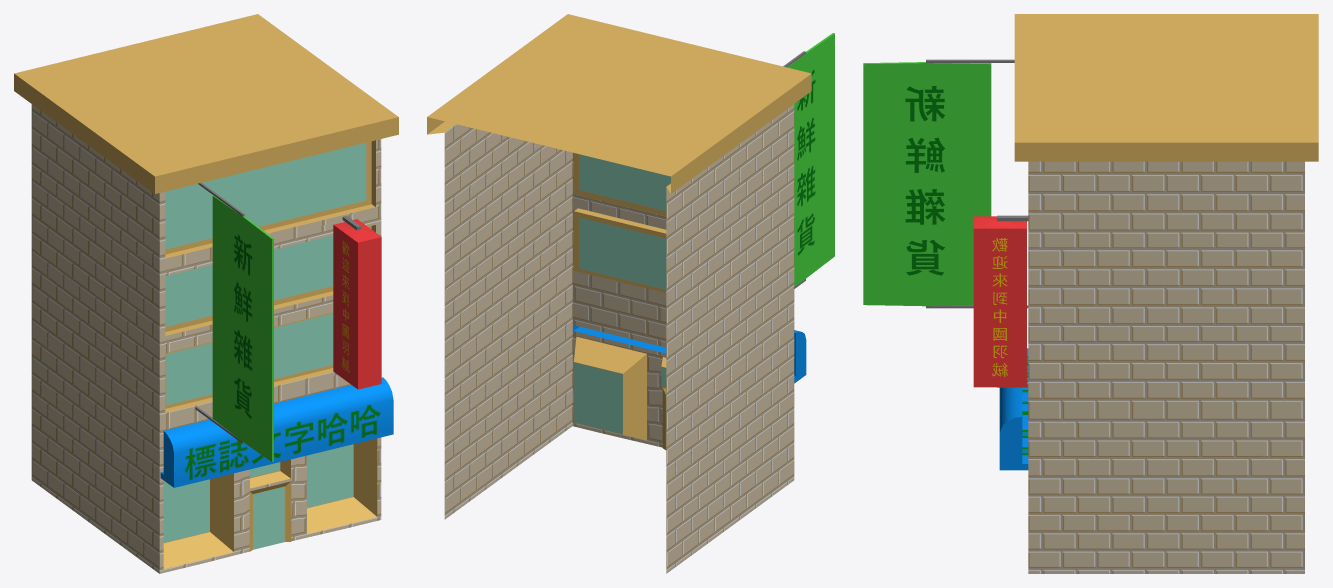
Rendered from Building6.fbx.
3 views of the same model, side by side, from view 1: azimuth 30°, elevation 25°; view 2: azimuth 150°, elevation 25°; view 3: azimuth 270°, elevation 25° (orthographic). The views are drawn at different scales.
Parts seen in each view (by area): view 1: Building6; view 2: Building6; view 3: Building6.
Boxes of the visible parts, x1,y1,x2,y2 form: Building6: (14, 14, 398, 573); Building6: (427, 14, 834, 573); Building6: (863, 14, 1318, 573).
Bounding box in the file's own units: 1000 × 1586 × 1498.
Materials: 1 (1 with a texture image).
